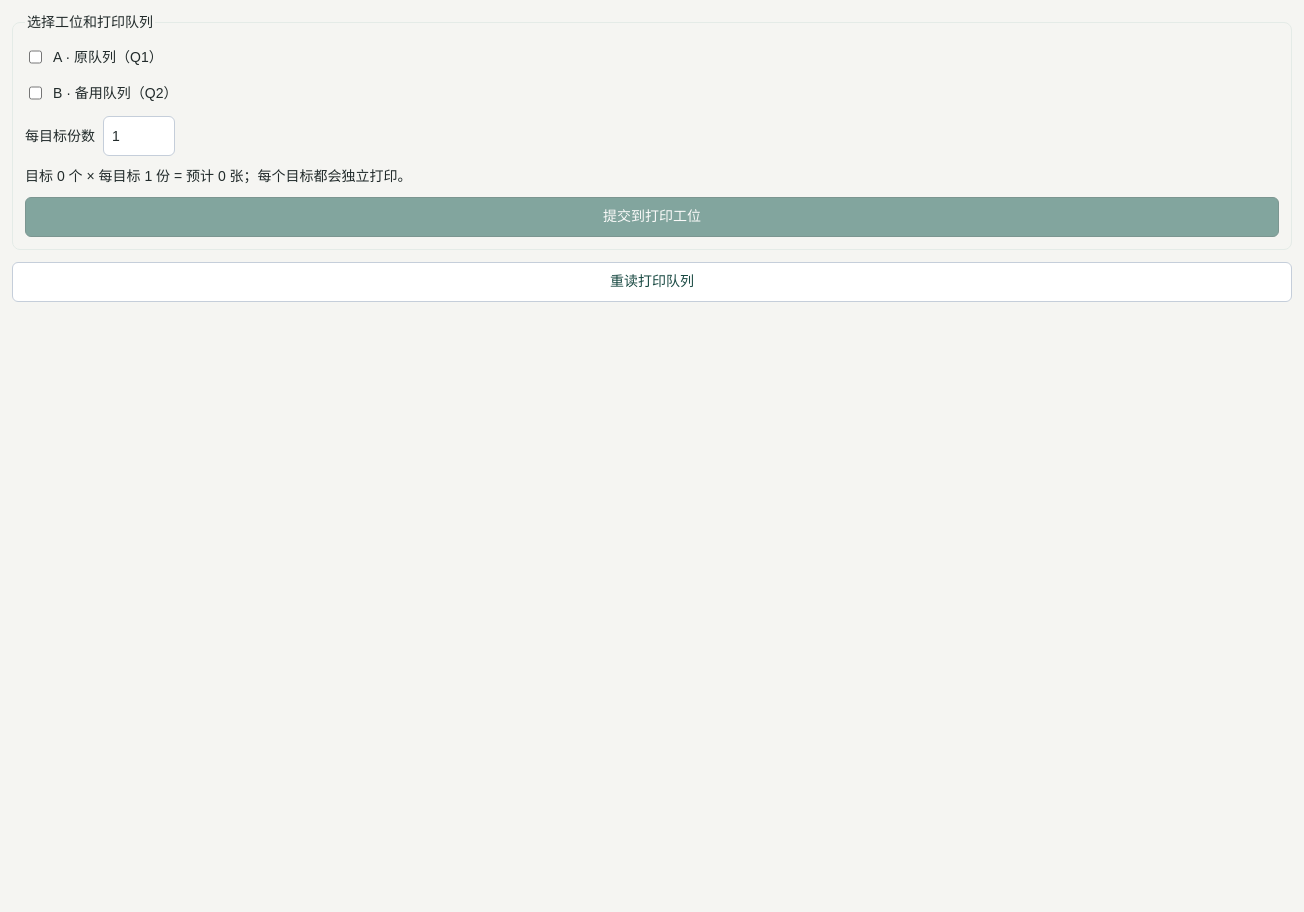
Test: 原单打印请求与快照 › 改派超时复用原命令，成功后状态刷新失败也保留关联批次及原快照
Click the checkbox labelled "A · 原队列（Q1）" at (36, 57), box [29,47,42,67]
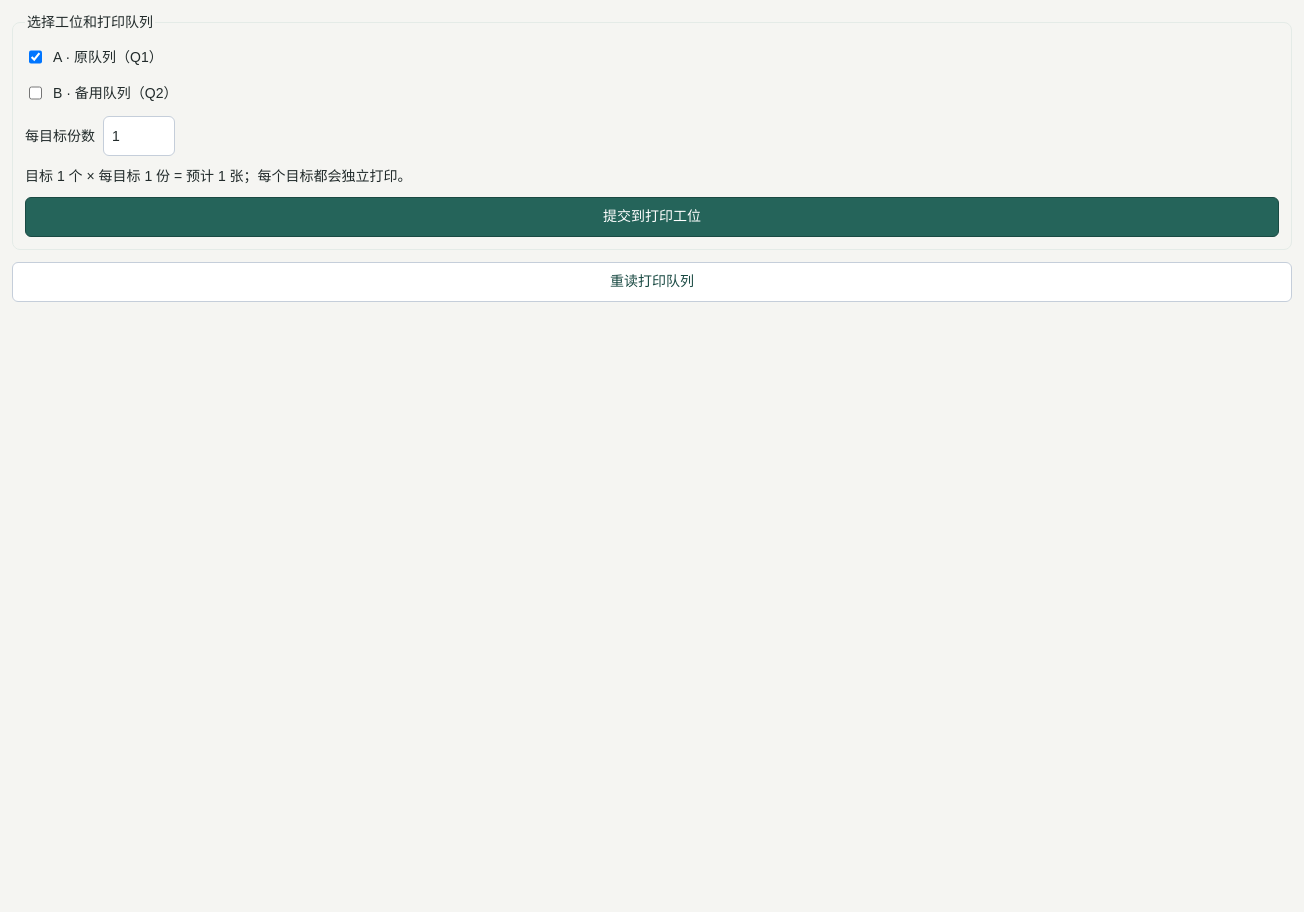
Click the button "提交到打印工位" at (652, 217), box [25,197,1279,237]
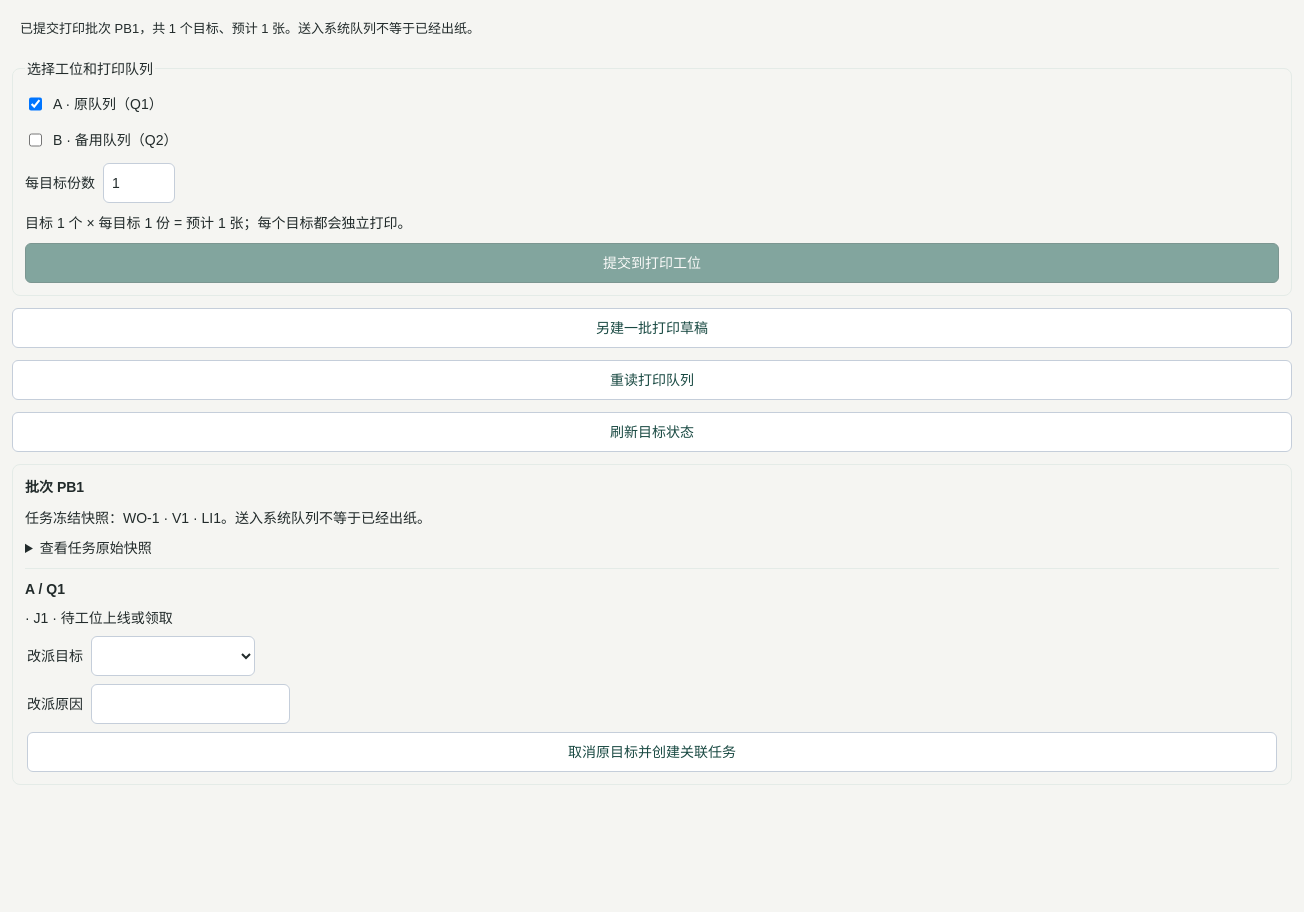
Select "B / Q2 · 备用队列" in the dropdown named "J1改派目标" at (173, 656), box [91,636,255,676]
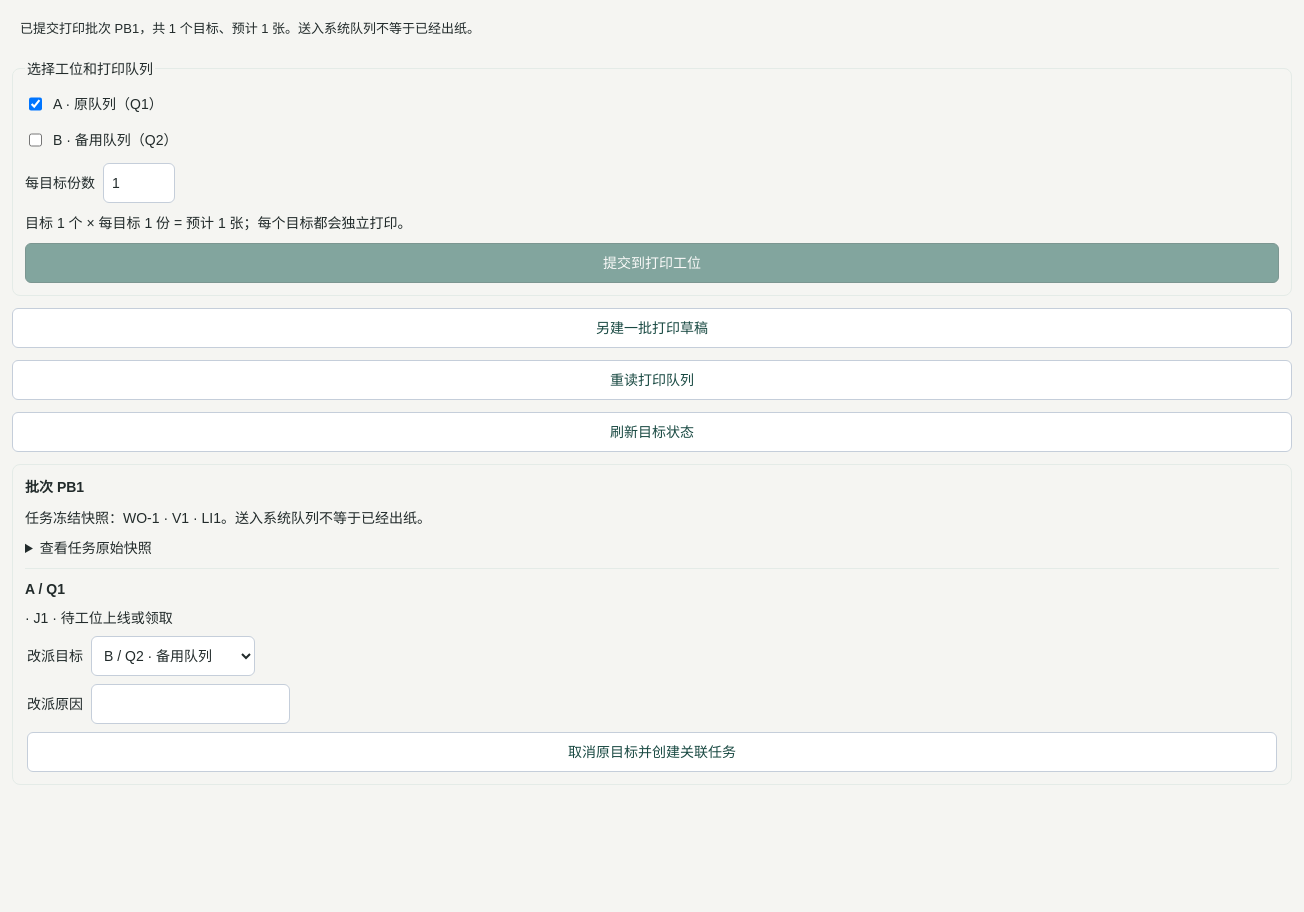
Type "原工位停机" into the field named "J1改派原因" at (190, 704), box [91,684,290,724]
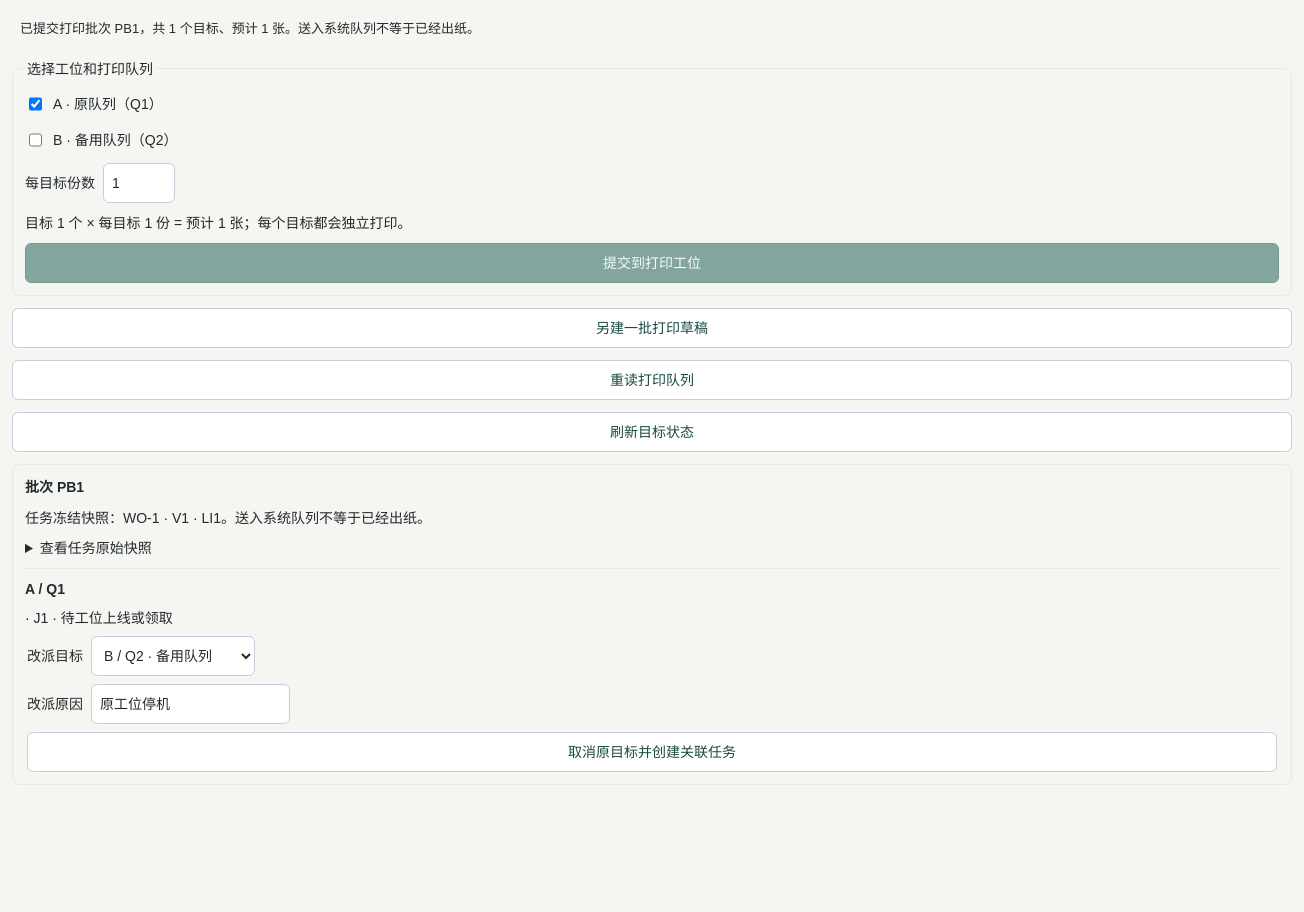
Click the button "取消原目标并创建关联任务" at (652, 752), box [27,732,1277,772]
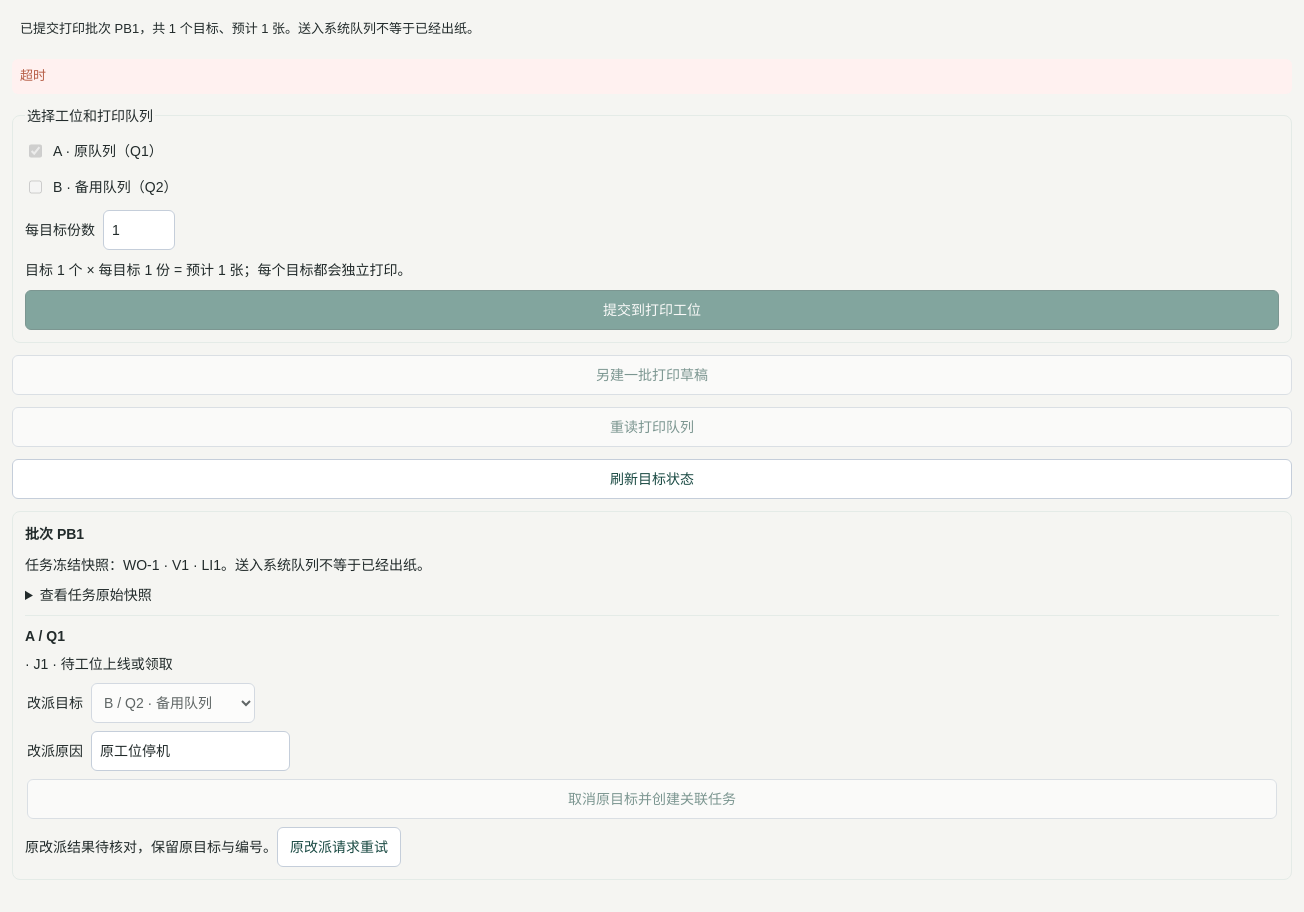
Click the button "原改派请求重试" at (339, 847), box [277,827,401,867]
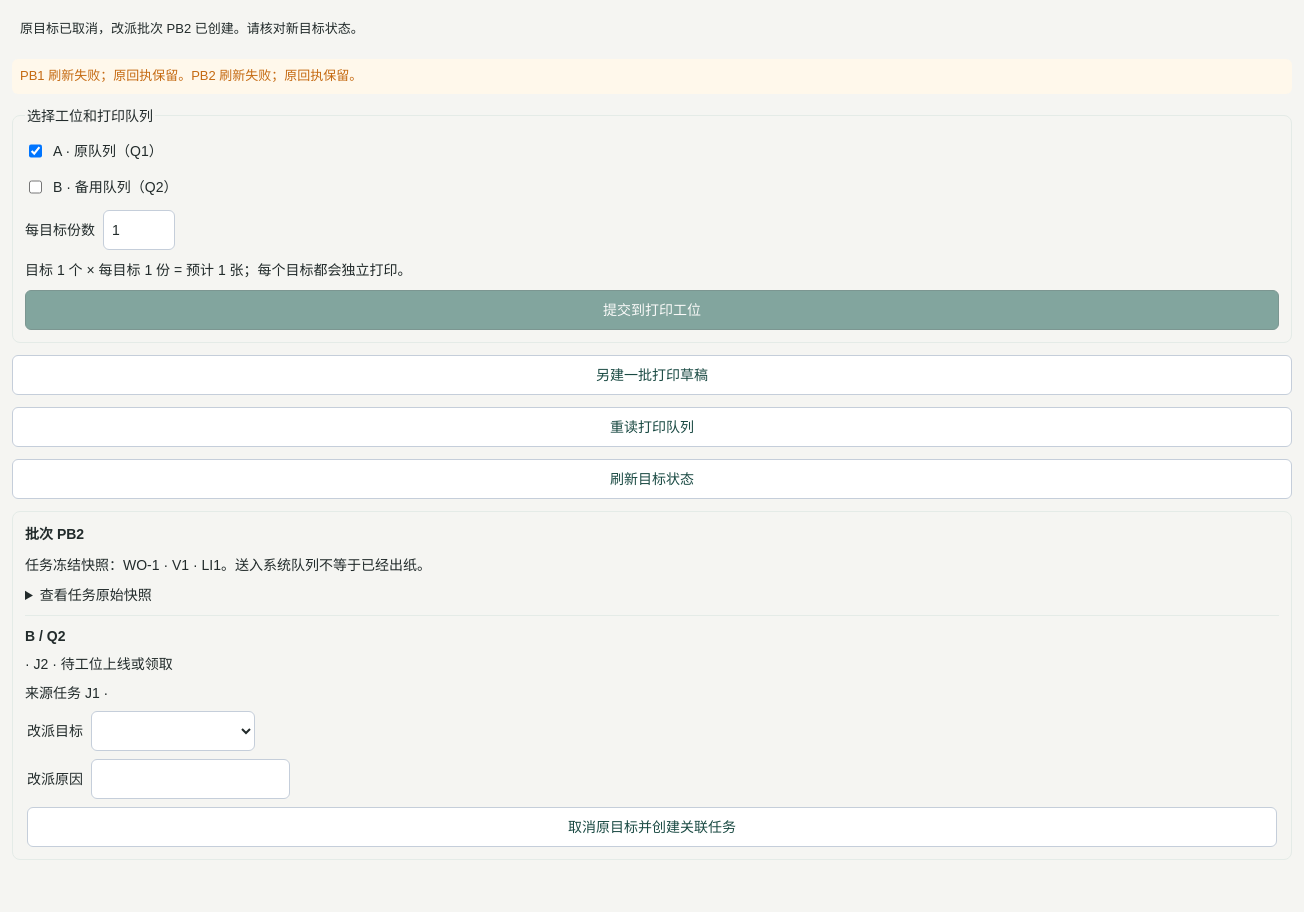
Expected: the text "改派批次 PB2 已创建" is shown, [20,21,364,36]
Expected: the text "来源任务 J1" is shown, [25,685,108,701]
Expected: the text "已取消" is shown, [20,21,364,36]
